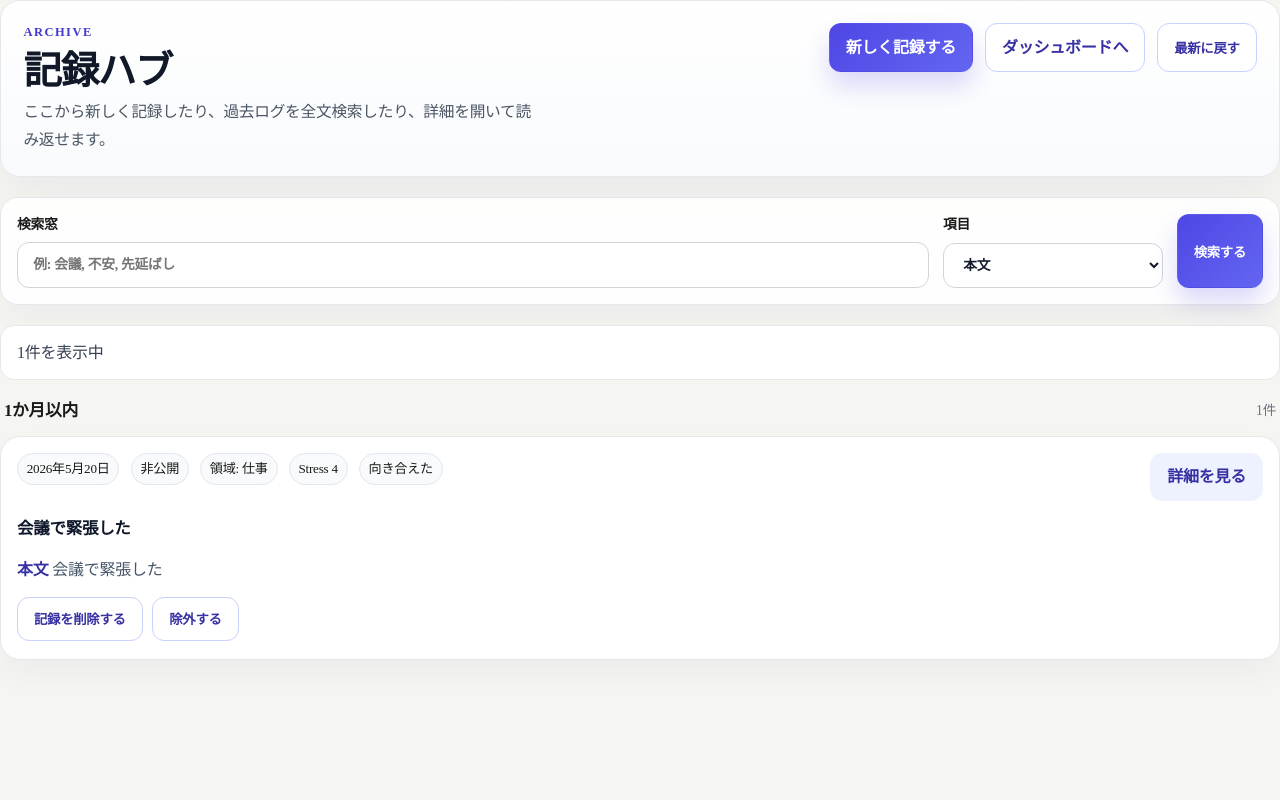
LogsClient › disables action buttons while a disposition update is in flight
The width and height of the screenshot is (1280, 800).
Click the button "記録を削除する": (80, 619) [17,597,143,641]
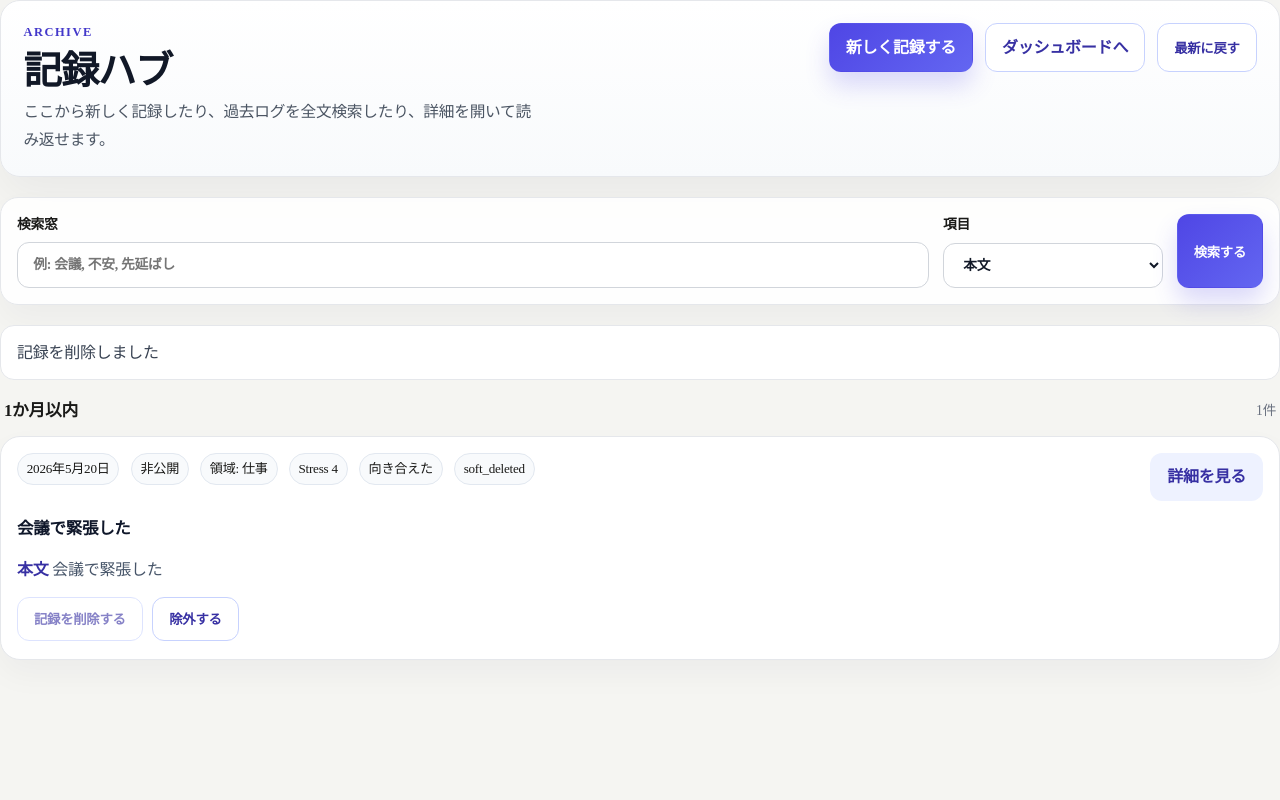
Check: the button "記録を削除する" is disabled, box [17,597,143,641]
